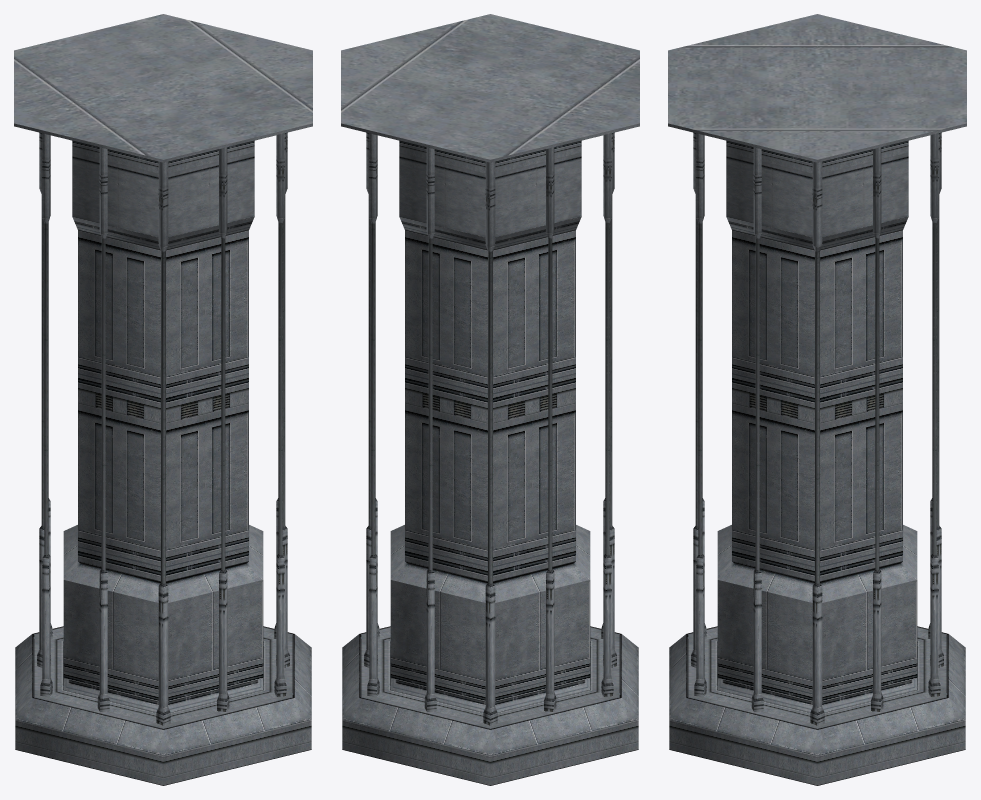
Rendered from poi_all_impl_bunker_pillar_s01_l0.fbx.
The picture shows the model from 3 angles, left to right: view 1: azimuth 30°, elevation 25°; view 2: azimuth 150°, elevation 25°; view 3: azimuth 270°, elevation 25°; orthographic projection.
Parts seen in each view (by area): view 1: mesh_node; view 2: mesh_node; view 3: mesh_node.
Boxes of the visible parts, x1,y1,x2,y2 form: mesh_node: (14,14,312,785); mesh_node: (341,14,639,785); mesh_node: (668,14,966,785).
Size of the model in its own units: 2.78 by 5.57 by 2.41.
Materials: 3 (3 with a texture image).
